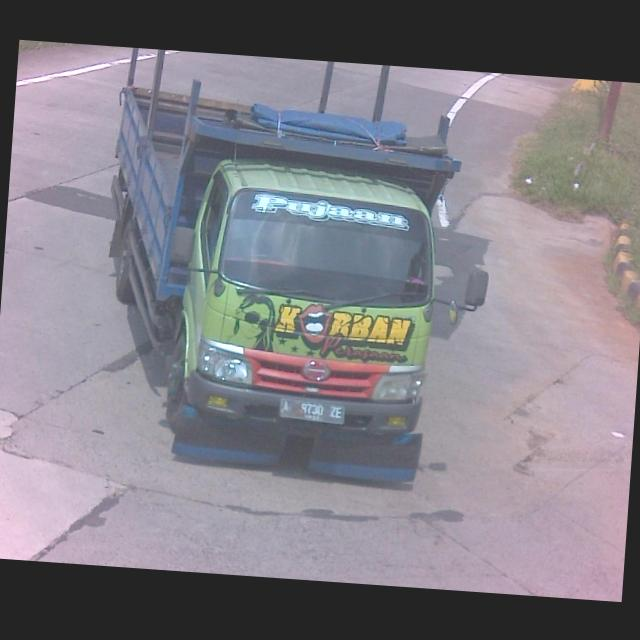plate: (275, 391, 349, 425)
